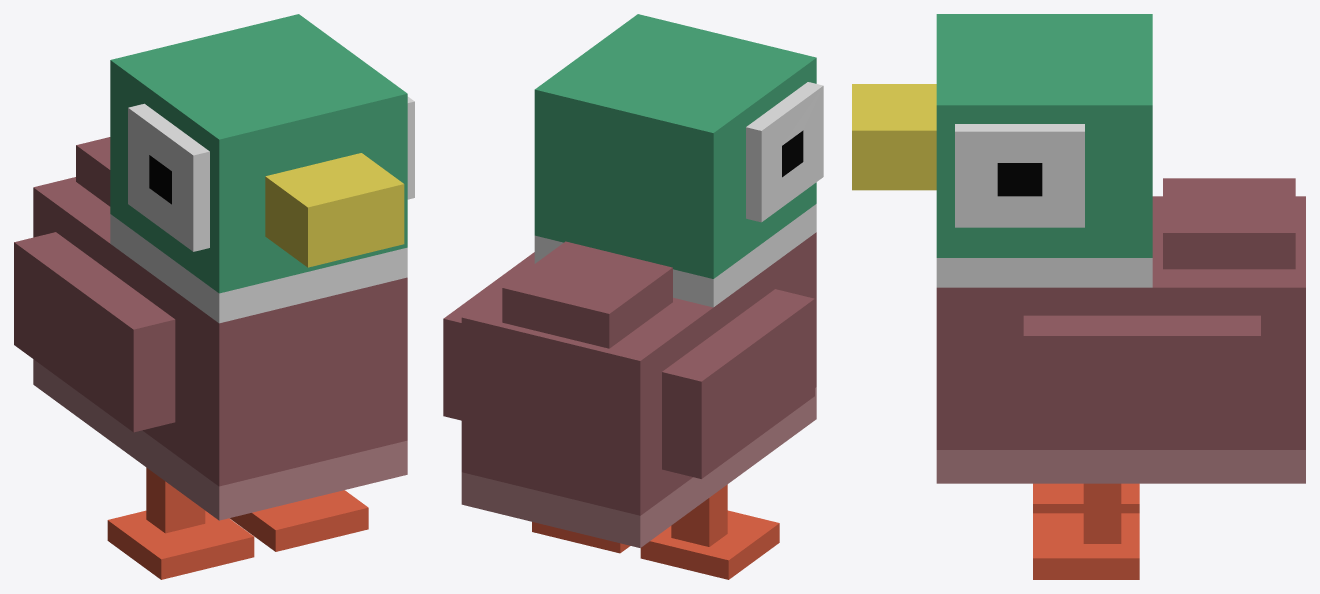
Rendered from Duck.fbx.
3 renders of one model, left to right at view 1: azimuth 30°, elevation 25°; view 2: azimuth 150°, elevation 25°; view 3: azimuth 270°, elevation 25°, orthographic. The views are drawn at different scales.
Parts seen in each view (by area): view 1: pCube1; view 2: pCube1; view 3: pCube1.
Boxes of the visible parts, left/top/right/bottom form: pCube1: left=14, top=14, right=414, bottom=579; pCube1: left=443, top=14, right=823, bottom=579; pCube1: left=852, top=14, right=1305, bottom=579.
Bounding box in the file's own units: 1.44 × 2.4 × 2.1.
